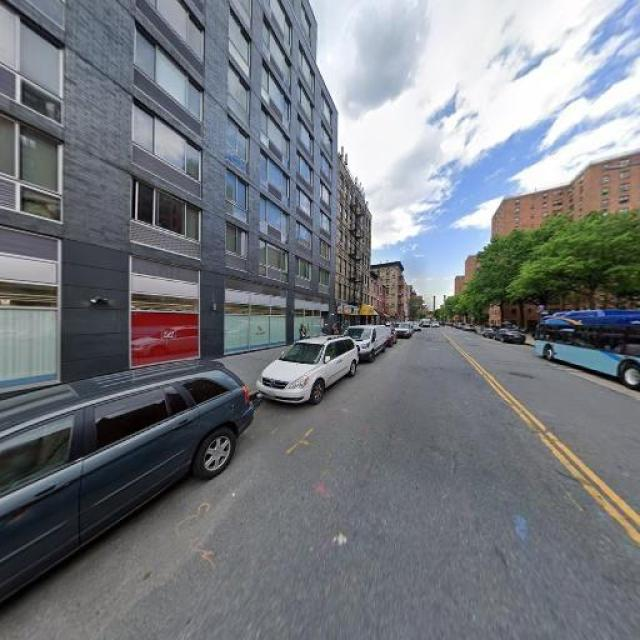Building: (1, 1, 335, 399), (337, 155, 370, 335)
